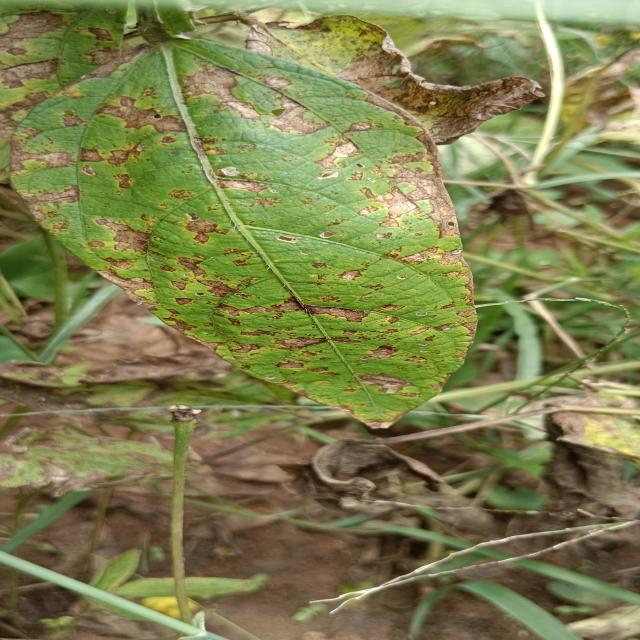Black gram_leaf spot: (0, 0, 489, 430)
